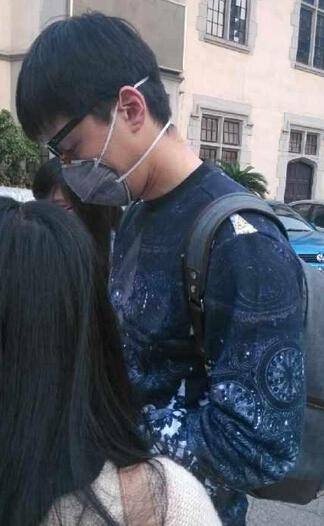OK: (49, 116, 149, 216)
